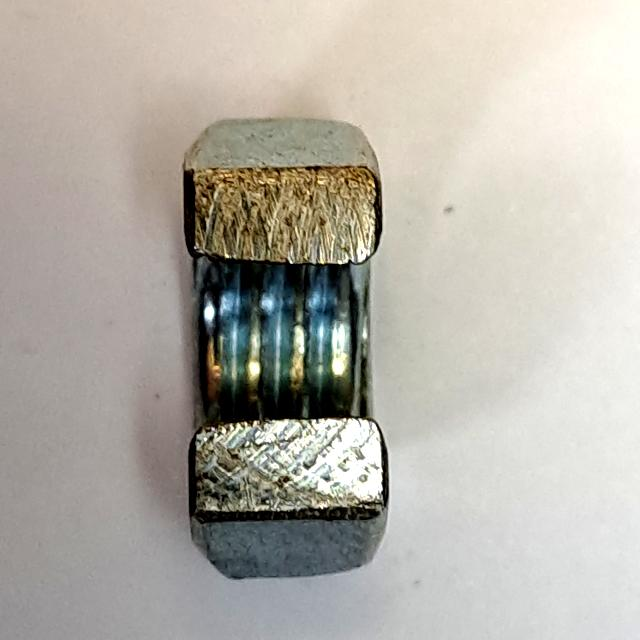Side-Fracture: (156, 104, 416, 595)
